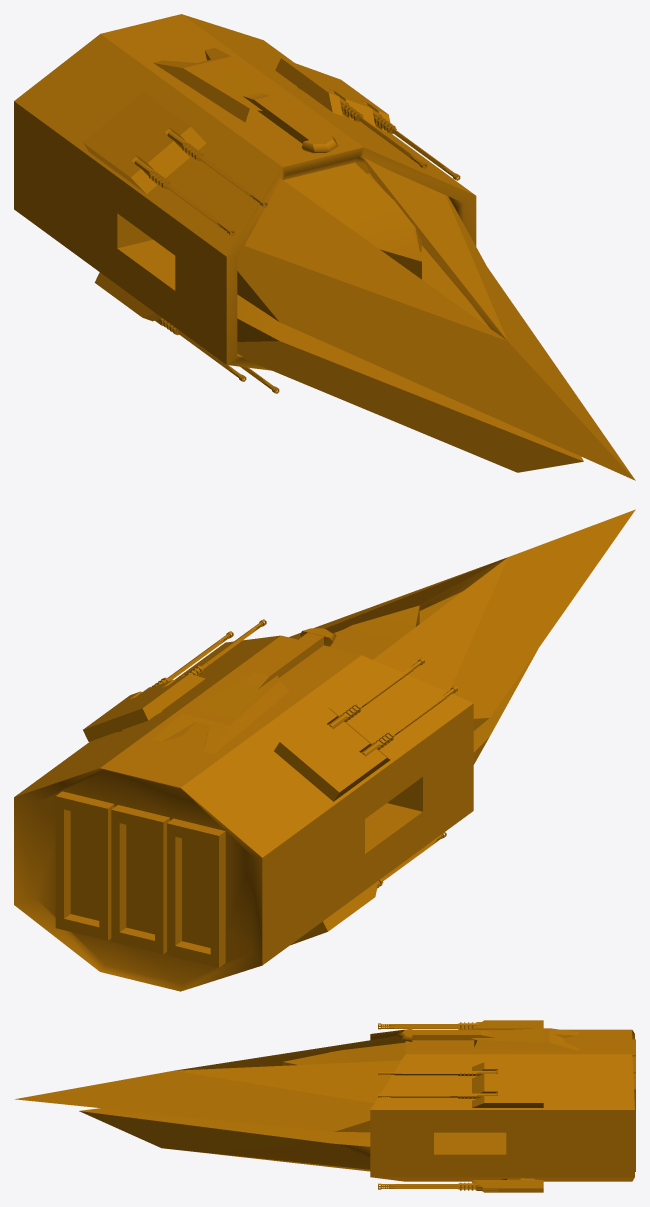
File: CruiserAmarok.fbx
3 renders of one model, top to bottom at view 1: azimuth 30°, elevation 25°; view 2: azimuth 150°, elevation 25°; view 3: azimuth 270°, elevation 25°, orthographic. The views are drawn at different scales.
Parts seen in each view (by area): view 1: polySurface17, polySurface7, polySurface35, polySurface16, polySurface31; view 2: polySurface17, polySurface7, polySurface35, polySurface16, polySurface31; view 3: polySurface17, polySurface16, polySurface35, polySurface19, polySurface7.
Part boxes in pixels (x1=…): polySurface17: x1=14, y1=14, x2=635, y2=480; polySurface7: x1=83, y1=92, x2=267, y2=235; polySurface35: x1=153, y1=48, x2=337, y2=153; polySurface16: x1=275, y1=58, x2=460, y2=180; polySurface31: x1=94, y1=272, x2=279, y2=393; polySurface17: x1=14, y1=509, x2=635, y2=991; polySurface7: x1=274, y1=658, x2=457, y2=801; polySurface35: x1=152, y1=628, x2=336, y2=754; polySurface16: x1=83, y1=619, x2=266, y2=741; polySurface31: x1=290, y1=832, x2=446, y2=945; polySurface17: x1=15, y1=1029, x2=635, y2=1181; polySurface16: x1=378, y1=1062, x2=543, y2=1107; polySurface35: x1=397, y1=1028, x2=578, y2=1051; polySurface19: x1=378, y1=1178, x2=543, y2=1192; polySurface7: x1=378, y1=1020, x2=543, y2=1029.
Size of the model in its own units: 2.56 by 2.18 by 8.59.
